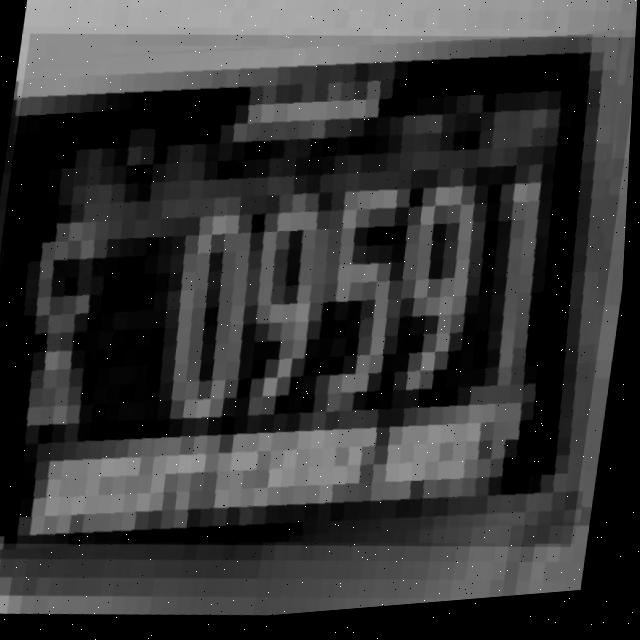LicensePlate: (0, 0, 639, 595)
